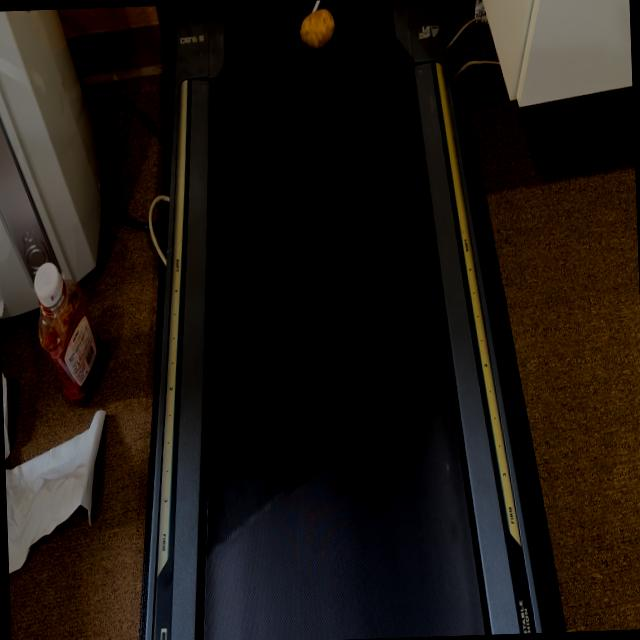Trash: (286, 0, 357, 63)
